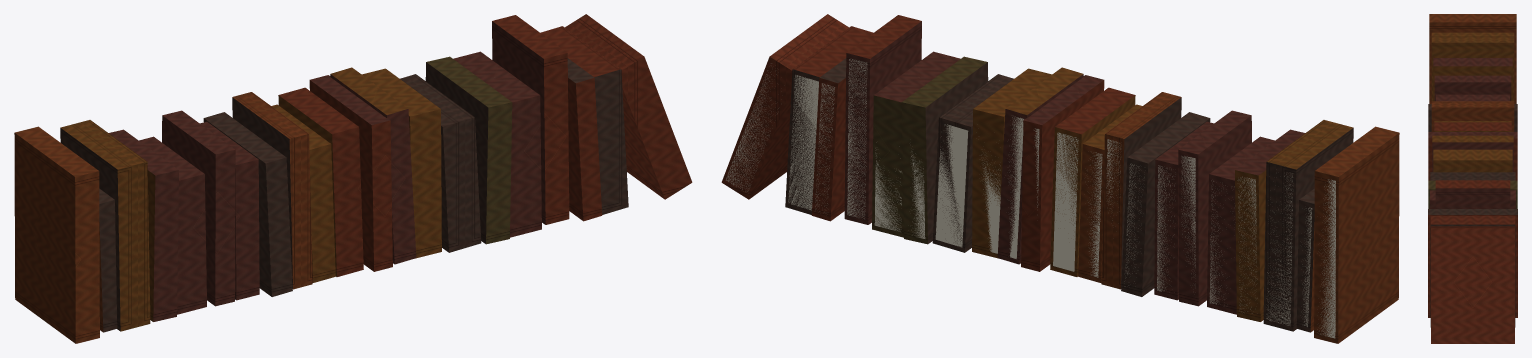
File: row.glb
The picture shows the model from 3 angles, left to right: view 1: azimuth 30°, elevation 25°; view 2: azimuth 150°, elevation 25°; view 3: azimuth 270°, elevation 25°; orthographic projection. The views are drawn at different scales.
Visible parts, largest first — view 1: row; view 2: row; view 3: row.
Boxes of the visible parts, bbox=[...] form: row: bbox=[14, 14, 692, 343]; row: bbox=[721, 14, 1399, 343]; row: bbox=[1428, 14, 1517, 343].
Bounding box in the file's own units: 1.14 × 0.295 × 0.1991.
2 materials, 1 textured.
